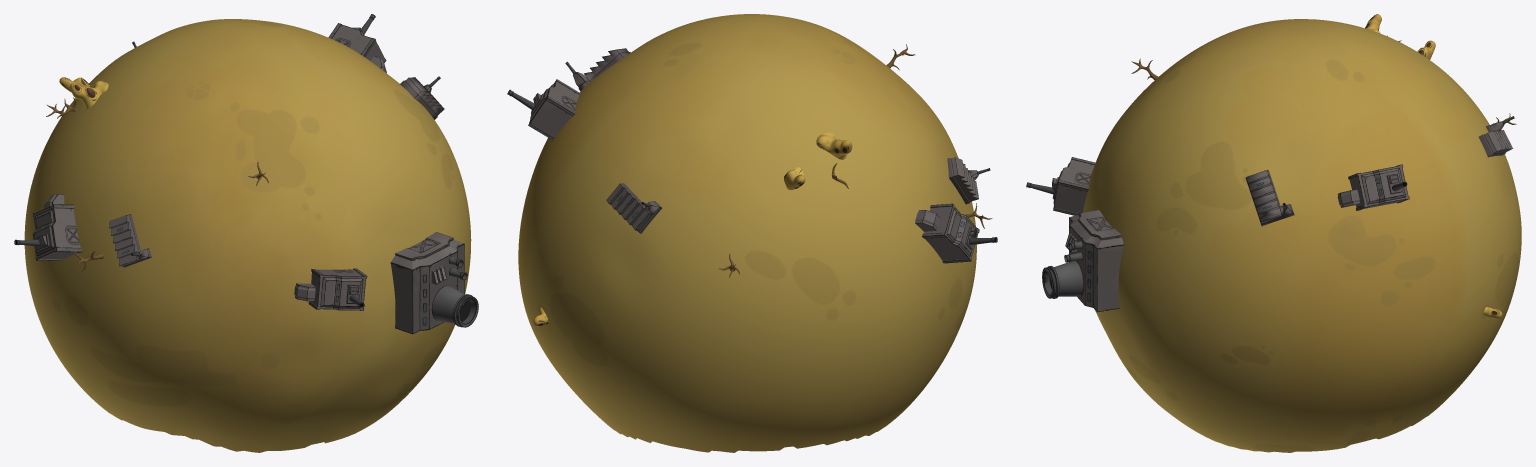
Rendered from planet_ant_iteration_3.gltf.
3 views of the same model, side by side, from view 1: azimuth 30°, elevation 25°; view 2: azimuth 150°, elevation 25°; view 3: azimuth 270°, elevation 25° (orthographic). The views are drawn at different scales.
Parts seen in each view (by area): view 1: Icosphere.001; view 2: Icosphere.001; view 3: Icosphere.001.
Boxes of the visible parts, box(x1,y1,x2,y2) form: Icosphere.001: box(14, 14, 478, 452); Icosphere.001: box(507, 14, 997, 452); Icosphere.001: box(1026, 14, 1521, 452).
Size of the model in its own units: 14.32 by 11.84 by 14.59.
Materials: 7 (7 with a texture image).
